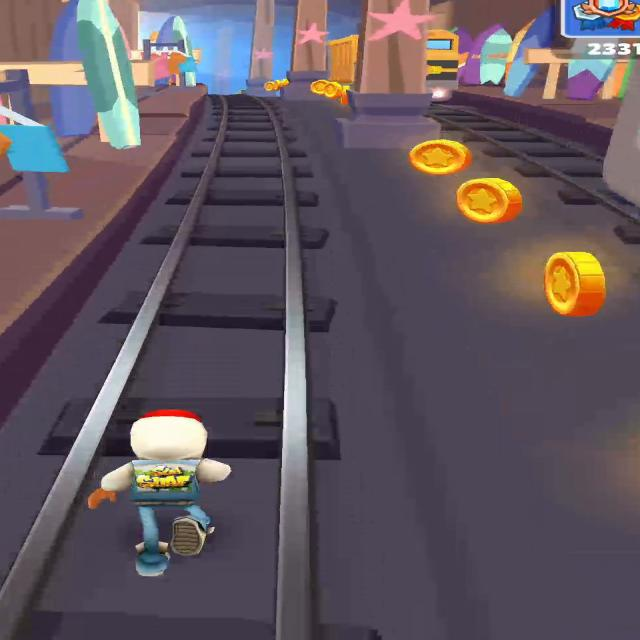block pillar: (339, 0, 439, 150), (283, 0, 328, 103), (245, 0, 275, 95)
train: (328, 35, 358, 84)
